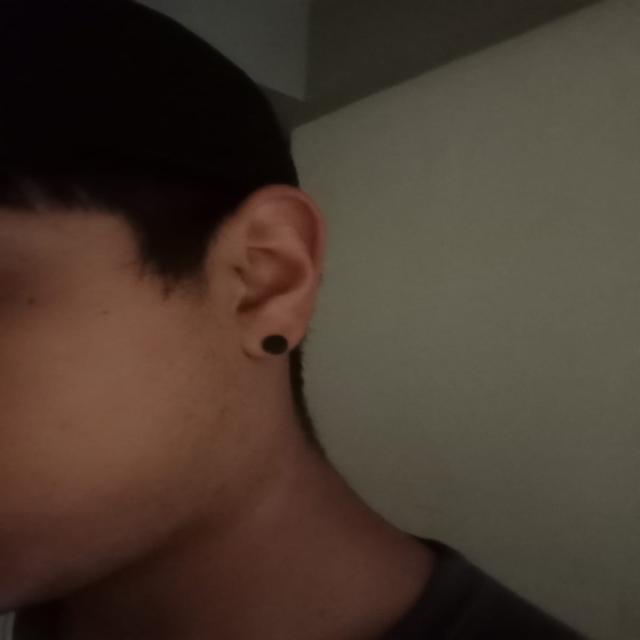ear: (192, 185, 325, 358)
